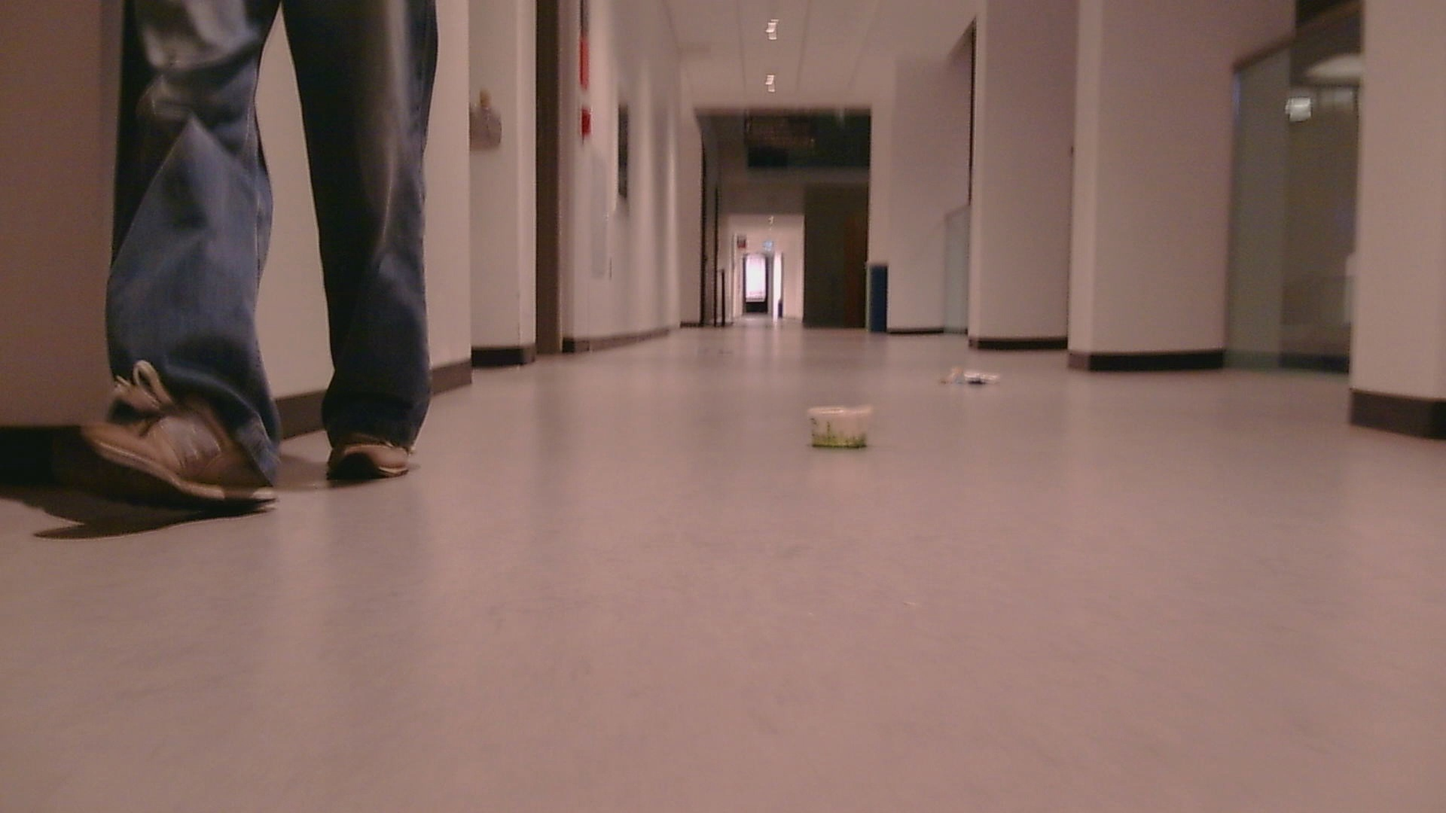carton: (789, 396, 884, 451), (938, 358, 1013, 393)
